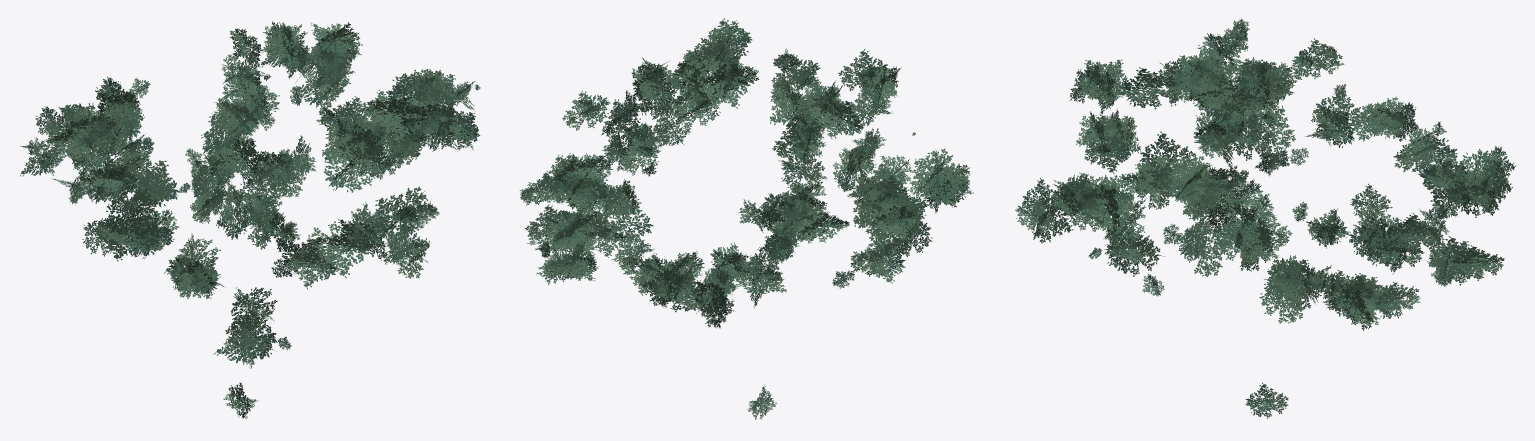
Rendered from m_leaves01.fbx.
The picture shows the model from 3 angles, left to right: view 1: azimuth 30°, elevation 25°; view 2: azimuth 150°, elevation 25°; view 3: azimuth 270°, elevation 25°; orthographic projection. The views are drawn at different scales.
Parts seen in each view (by area): view 1: m_leaves01|m_leaves0100 - copy|Dupli|246, m_leaves01|m_leaves0100 - copy|Dupli|8, m_leaves01|m_leaves0100 - copy|Dupli|17, m_leaves01|m_leaves0100 - copy|Dupli|257, m_leaves01|m_leaves0100 - copy|Dupli|19, m_leaves01|m_leaves0100 - copy|Dupli|192, m_leaves01|m_leaves0100 - copy|Dupli|256, m_leaves01|m_leaves0100 - copy|Dupli|249, m_leaves01|m_leaves0100 - copy|Dupli|121, m_leaves01|m_leaves0100 - copy|Dupli|211, m_leaves01|m_leaves0100 - copy|Dupli|244, m_leaves01|m_leaves0100 - copy|Dupli|21 (+62 smaller); view 2: m_leaves01|m_leaves0100 - copy|Dupli|246, m_leaves01|m_leaves0100 - copy|Dupli|211, m_leaves01|m_leaves0100 - copy|Dupli|199, m_leaves01|m_leaves0100 - copy|Dupli|137, m_leaves01|m_leaves0100 - copy|Dupli|206, m_leaves01|m_leaves0100 - copy|Dupli|19, m_leaves01|m_leaves0100 - copy|Dupli|250, m_leaves01|m_leaves0100 - copy|Dupli|17, m_leaves01|m_leaves0100 - copy|Dupli|239, m_leaves01|m_leaves0100 - copy|Dupli|8, m_leaves01|m_leaves0100 - copy|Dupli|151, m_leaves01|m_leaves0100 - copy|Dupli|157 (+55 smaller); view 3: m_leaves01|m_leaves0100 - copy|Dupli|249, m_leaves01|m_leaves0100 - copy|Dupli|157, m_leaves01|m_leaves0100 - copy|Dupli|83, m_leaves01|m_leaves0100 - copy|Dupli|180, m_leaves01|m_leaves0100 - copy|Dupli|154, m_leaves01|m_leaves0100 - copy|Dupli|189, m_leaves01|m_leaves0100 - copy|Dupli|2, m_leaves01|m_leaves0100 - copy|Dupli|243, m_leaves01|m_leaves0100 - copy|Dupli|12, m_leaves01|m_leaves0100 - copy|Dupli|121, m_leaves01|m_leaves0100 - copy|Dupli|100, m_leaves01|m_leaves0100 - copy|Dupli|33 (+61 smaller).
Part boxes in pixels (left/top/right/bottom): m_leaves01|m_leaves0100 - copy|Dupli|246: left=106, top=187, right=157, bottom=239; m_leaves01|m_leaves0100 - copy|Dupli|8: left=306, top=221, right=368, bottom=278; m_leaves01|m_leaves0100 - copy|Dupli|17: left=375, top=186, right=428, bottom=240; m_leaves01|m_leaves0100 - copy|Dupli|257: left=364, top=93, right=425, bottom=143; m_leaves01|m_leaves0100 - copy|Dupli|19: left=322, top=145, right=379, bottom=192; m_leaves01|m_leaves0100 - copy|Dupli|192: left=228, top=287, right=277, bottom=330; m_leaves01|m_leaves0100 - copy|Dupli|256: left=286, top=245, right=338, bottom=289; m_leaves01|m_leaves0100 - copy|Dupli|249: left=217, top=137, right=268, bottom=187; m_leaves01|m_leaves0100 - copy|Dupli|121: left=225, top=311, right=277, bottom=361; m_leaves01|m_leaves0100 - copy|Dupli|211: left=201, top=110, right=249, bottom=159; m_leaves01|m_leaves0100 - copy|Dupli|244: left=216, top=188, right=249, bottom=239; m_leaves01|m_leaves0100 - copy|Dupli|21: left=119, top=160, right=179, bottom=206; m_leaves01|m_leaves0100 - copy|Dupli|246: left=914, top=148, right=970, bottom=205; m_leaves01|m_leaves0100 - copy|Dupli|211: left=807, top=96, right=863, bottom=139; m_leaves01|m_leaves0100 - copy|Dupli|199: left=850, top=243, right=905, bottom=283; m_leaves01|m_leaves0100 - copy|Dupli|137: left=697, top=61, right=750, bottom=108; m_leaves01|m_leaves0100 - copy|Dupli|206: left=631, top=63, right=674, bottom=115; m_leaves01|m_leaves0100 - copy|Dupli|19: left=597, top=199, right=653, bottom=242; m_leaves01|m_leaves0100 - copy|Dupli|250: left=552, top=175, right=609, bottom=215; m_leaves01|m_leaves0100 - copy|Dupli|17: left=769, top=78, right=818, bottom=129; m_leaves01|m_leaves0100 - copy|Dupli|239: left=849, top=175, right=897, bottom=228; m_leaves01|m_leaves0100 - copy|Dupli|8: left=778, top=145, right=827, bottom=187; m_leaves01|m_leaves0100 - copy|Dupli|151: left=771, top=54, right=820, bottom=92; m_leaves01|m_leaves0100 - copy|Dupli|157: left=562, top=90, right=610, bottom=130; m_leaves01|m_leaves0100 - copy|Dupli|249: left=1119, top=67, right=1182, bottom=109; m_leaves01|m_leaves0100 - copy|Dupli|157: left=1217, top=221, right=1265, bottom=265; m_leaves01|m_leaves0100 - copy|Dupli|83: left=1227, top=111, right=1275, bottom=160; m_leaves01|m_leaves0100 - copy|Dupli|180: left=1259, top=279, right=1304, bottom=323; m_leaves01|m_leaves0100 - copy|Dupli|154: left=1187, top=59, right=1240, bottom=108; m_leaves01|m_leaves0100 - copy|Dupli|189: left=1184, top=228, right=1229, bottom=276; m_leaves01|m_leaves0100 - copy|Dupli|2: left=1391, top=212, right=1444, bottom=254; m_leaves01|m_leaves0100 - copy|Dupli|243: left=1334, top=288, right=1379, bottom=330; m_leaves01|m_leaves0100 - copy|Dupli|12: left=1393, top=136, right=1457, bottom=174; m_leaves01|m_leaves0100 - copy|Dupli|121: left=1104, top=226, right=1153, bottom=269; m_leaves01|m_leaves0100 - copy|Dupli|100: left=1475, top=160, right=1512, bottom=215; m_leaves01|m_leaves0100 - copy|Dupli|33: left=1372, top=282, right=1420, bottom=318.
Bounding box in the file's own units: 3571 × 3317 × 3819.
